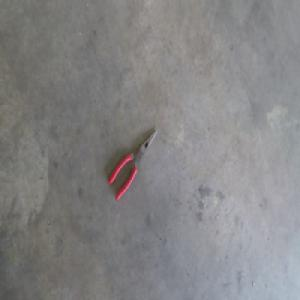Pliers: (108, 126, 158, 200)
